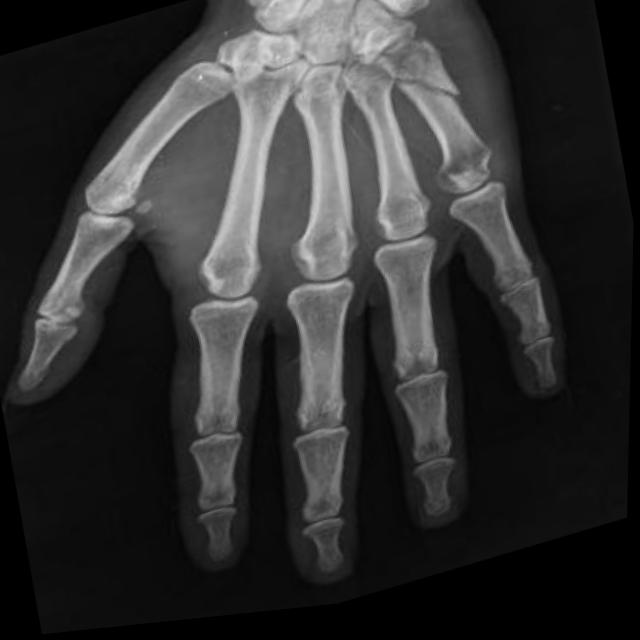fracture: (389, 55, 481, 133)
